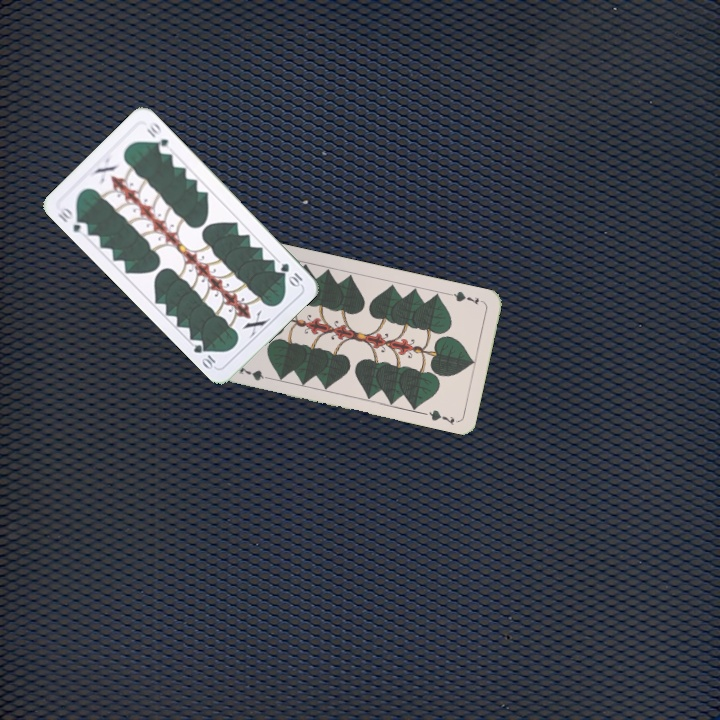G10: (53, 203, 91, 238), (276, 259, 305, 289)
G7: (236, 362, 276, 383), (446, 287, 486, 307)
